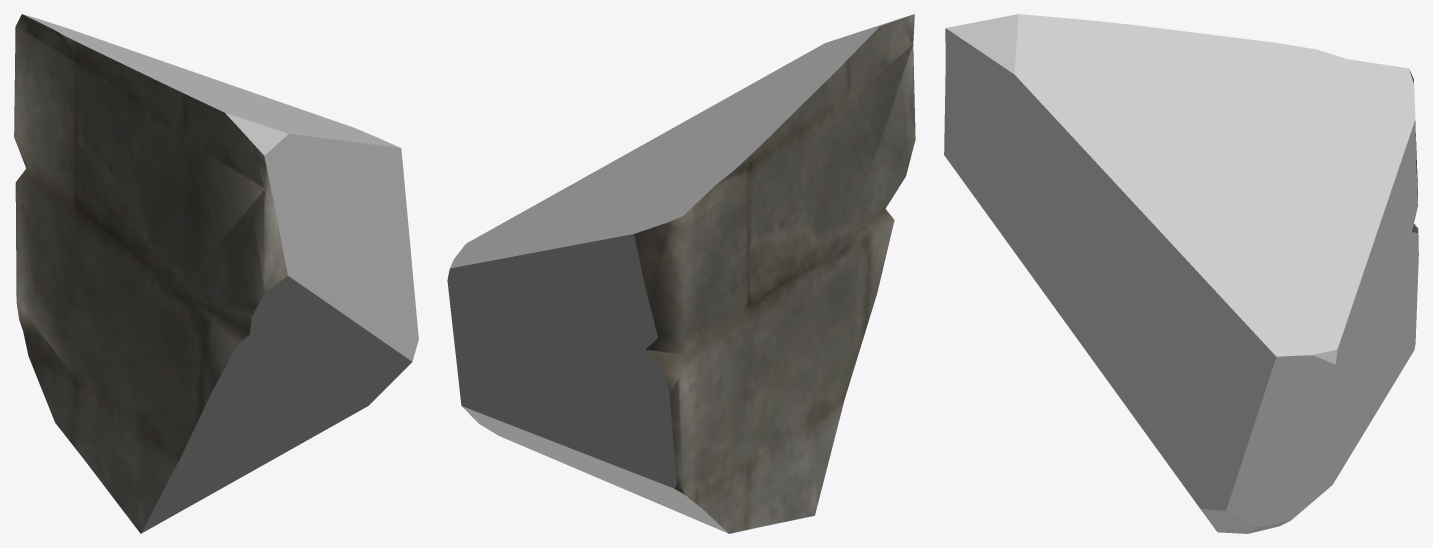
File: ColumnDamage08_10.fbx
3 renders of one model, left to right at view 1: azimuth 30°, elevation 25°; view 2: azimuth 150°, elevation 25°; view 3: azimuth 270°, elevation 25°, orthographic. The views are drawn at different scales.
Parts seen in each view (by area): view 1: ColumnDamage08_DM.010; view 2: ColumnDamage08_DM.010; view 3: ColumnDamage08_DM.010.
Boxes of the visible parts, x1,y1,x2,y2 form: ColumnDamage08_DM.010: (14, 14, 418, 533); ColumnDamage08_DM.010: (447, 14, 915, 533); ColumnDamage08_DM.010: (944, 14, 1418, 533).
Bounding box in the file's own units: 109 × 155 × 150.
